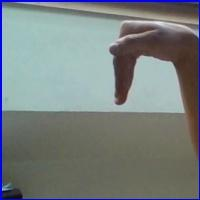del: (103, 15, 193, 113)
